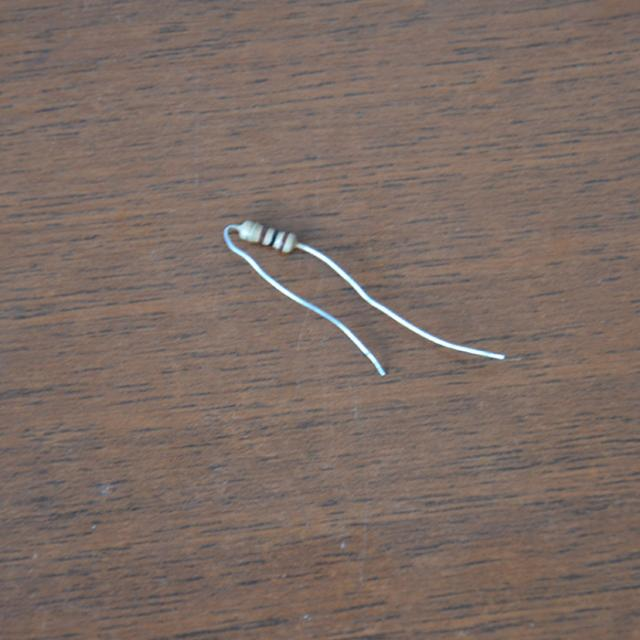black: (270, 230, 278, 246)
brown: (279, 232, 290, 251), (257, 225, 267, 243)
gold: (243, 220, 255, 240)
resistor: (235, 211, 306, 263)
